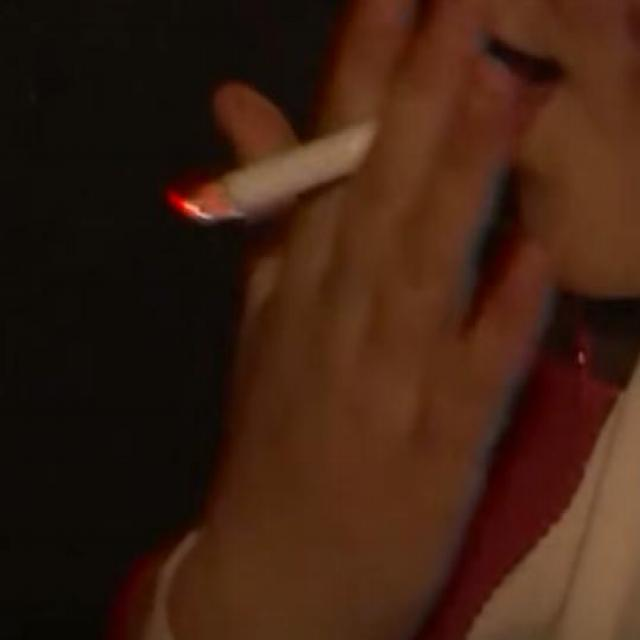cigarette: (158, 102, 395, 260)
